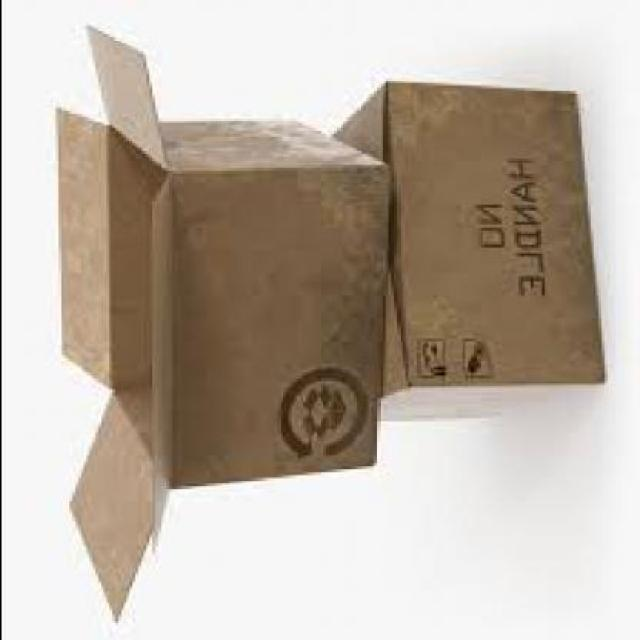CARDBOARD: (51, 23, 387, 620), (329, 77, 603, 421)
